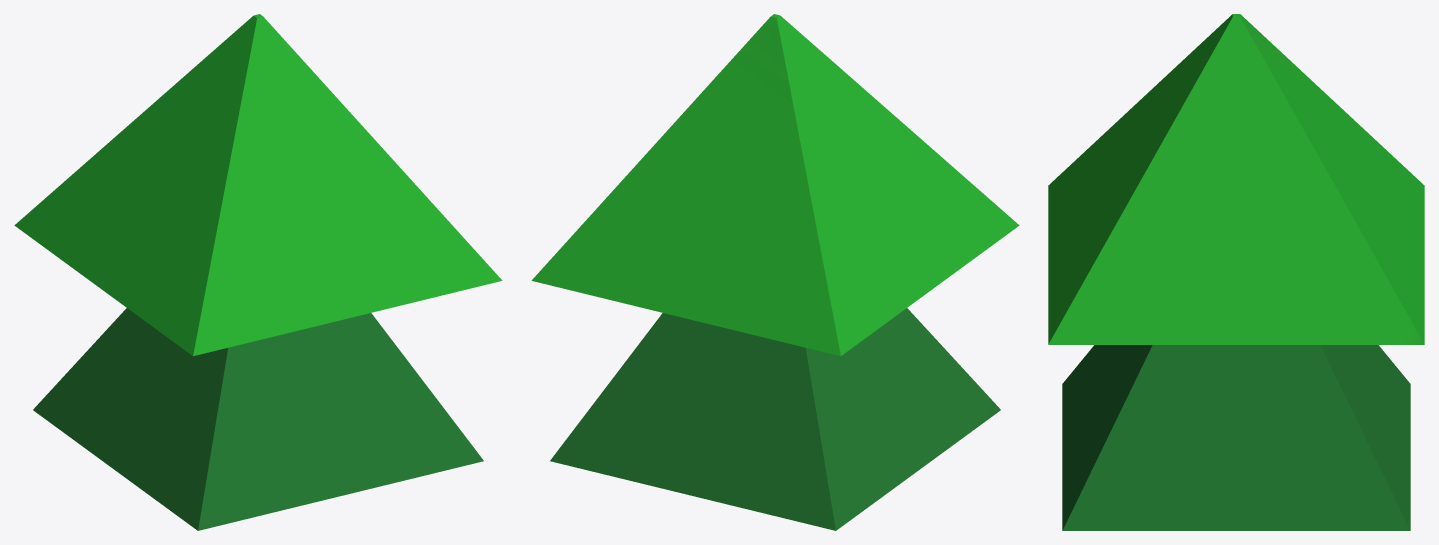
File: tree.glb
3 views of the same model, side by side, from view 1: azimuth 30°, elevation 25°; view 2: azimuth 150°, elevation 25°; view 3: azimuth 270°, elevation 25° (orthographic). The views are drawn at different scales.
Visible parts, largest first — view 1: Cube; view 2: Cube; view 3: Cube.
Part boxes in pixels (left/top/right/bottom): Cube: left=14, top=14, right=502, bottom=530; Cube: left=531, top=14, right=1019, bottom=530; Cube: left=1048, top=14, right=1424, bottom=530.
Size of the model in its own units: 9.94 by 13.95 by 9.94.
Materials: 1 (1 with a texture image).
